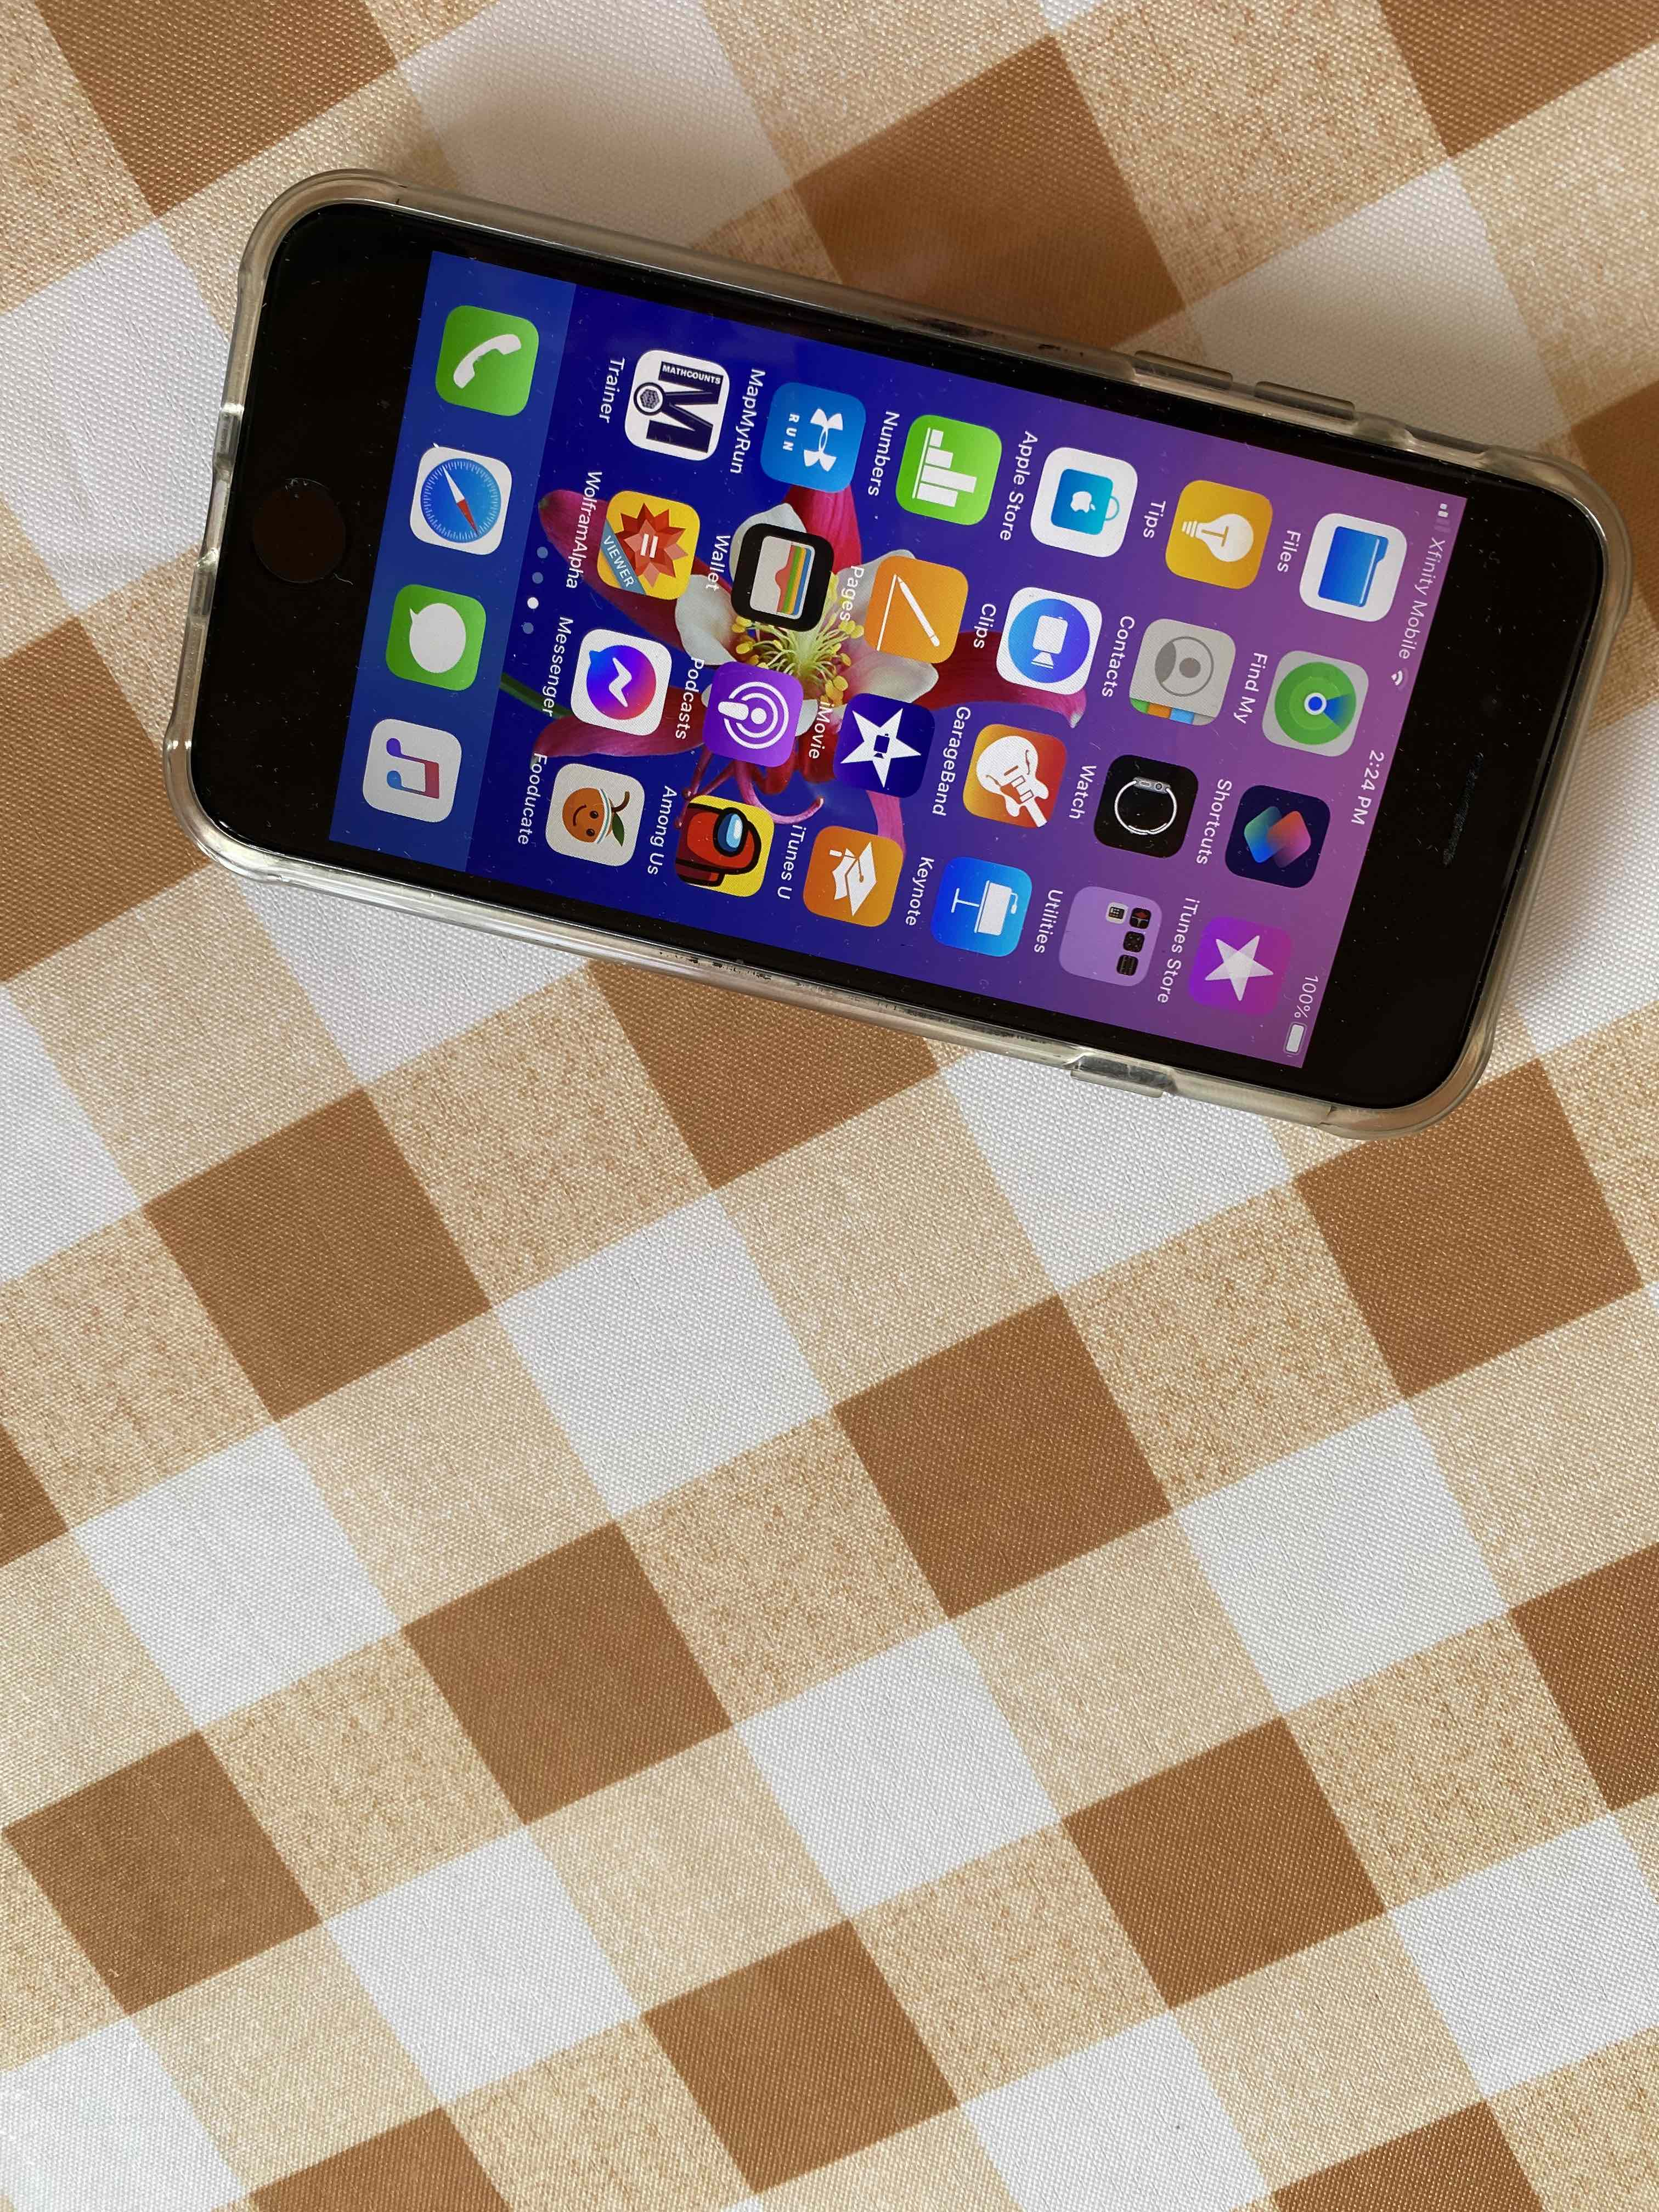Cell Phone: (173, 174, 1612, 1130)
